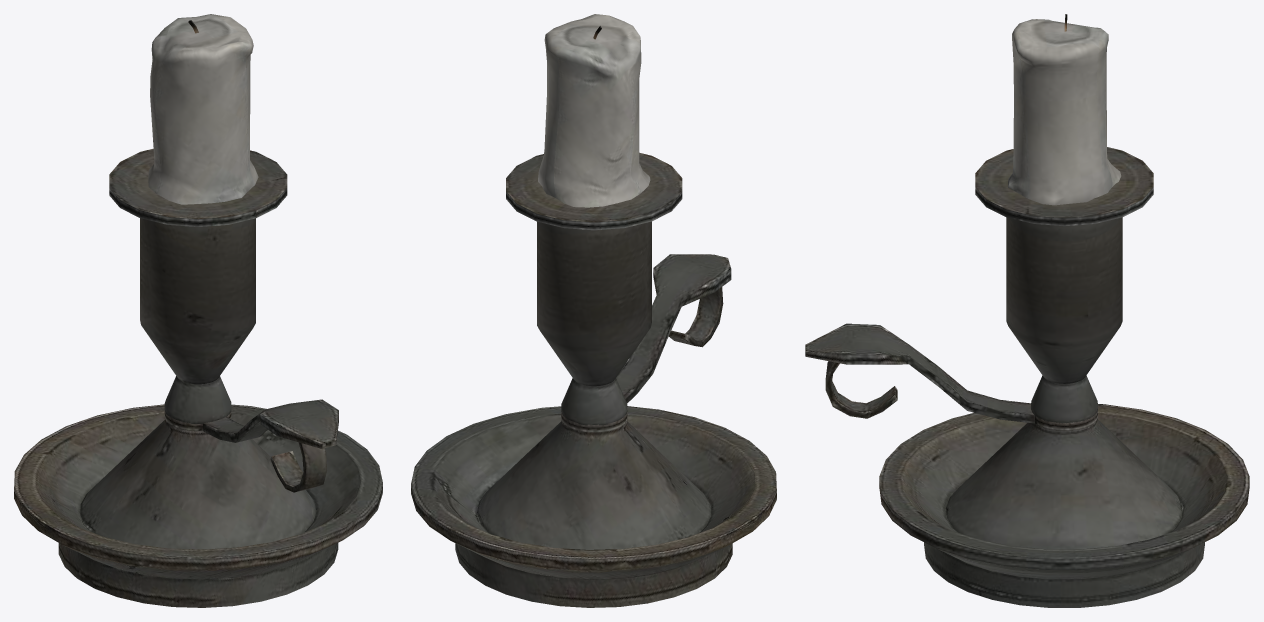
Rendered from candlestick.obj.
The picture shows the model from 3 angles, left to right: view 1: azimuth 30°, elevation 25°; view 2: azimuth 150°, elevation 25°; view 3: azimuth 270°, elevation 25°; orthographic projection.
Parts seen in each view (by area): view 1: candle; view 2: candle; view 3: candle.
Part boxes in pixels (x1,y1,x2,y2): candle: [14, 14, 382, 607]; candle: [411, 14, 776, 607]; candle: [805, 14, 1249, 607].
Bounding box in the file's own units: 1.34 × 2.13 × 1.61.
Materials: 1 (1 with a texture image).
